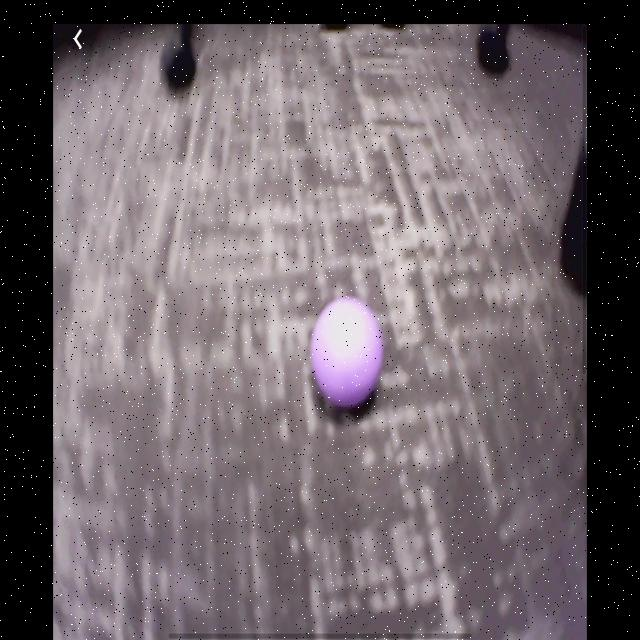ball: (310, 296, 385, 411)
